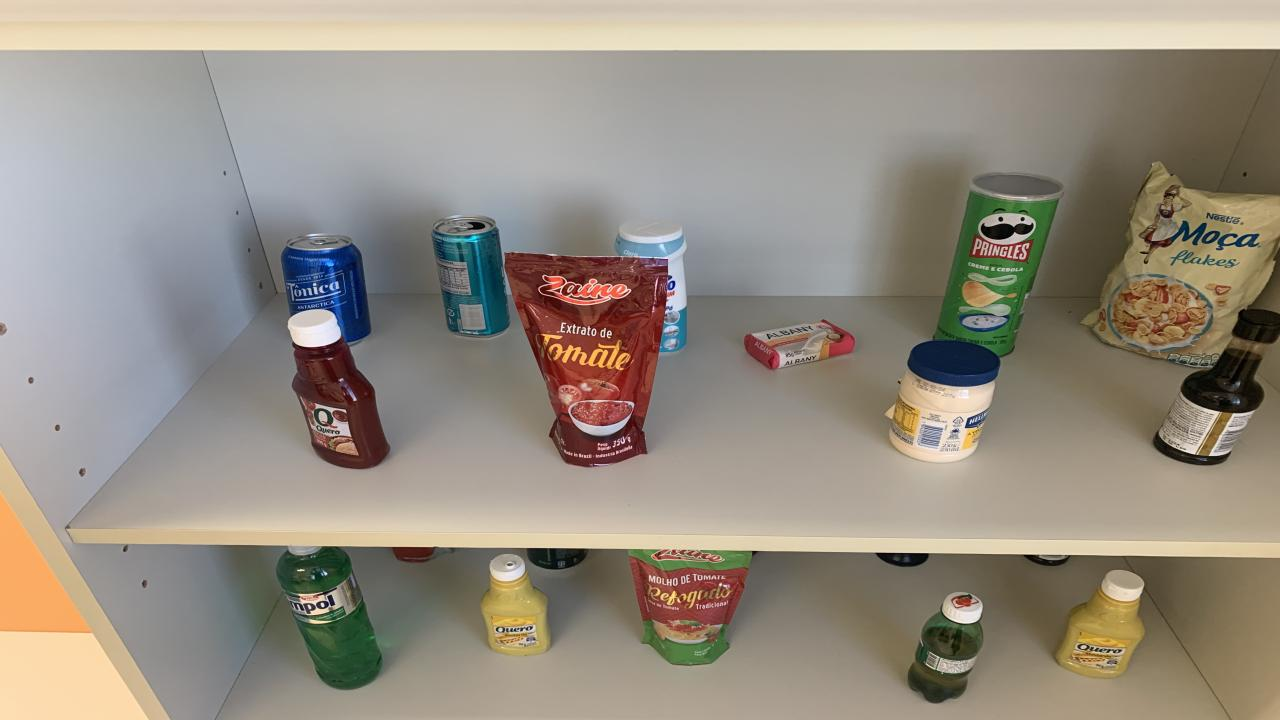Cleaner-Cleanup_Items: (615, 219, 688, 352)
Detergent-Cleanup_Items: (278, 546, 382, 690)
English_Sauce-Pantry_Items: (1155, 309, 1280, 465), (1025, 555, 1070, 566)
Flakes-Snacks: (1082, 163, 1280, 368)
Guarana-Drinks: (908, 592, 982, 703)
Guarana_Can-Drinks: (528, 548, 588, 570)
Ketchup-Pantry_Items: (288, 309, 390, 469)
Mayonnaise-Pantry_Items: (888, 339, 1000, 463)
Mustard-Pantry_Items: (1055, 570, 1145, 677), (480, 555, 550, 654)
Pringles-Snacks: (935, 172, 1065, 356)
Soap-Cleanup_Items: (745, 321, 855, 369)
Tea-Drinks: (432, 216, 510, 338)
Tomato_Sauce-Pantry_Items: (505, 253, 668, 467), (628, 549, 752, 666), (392, 548, 455, 562)
Tonic-Drinks: (282, 234, 370, 343)
